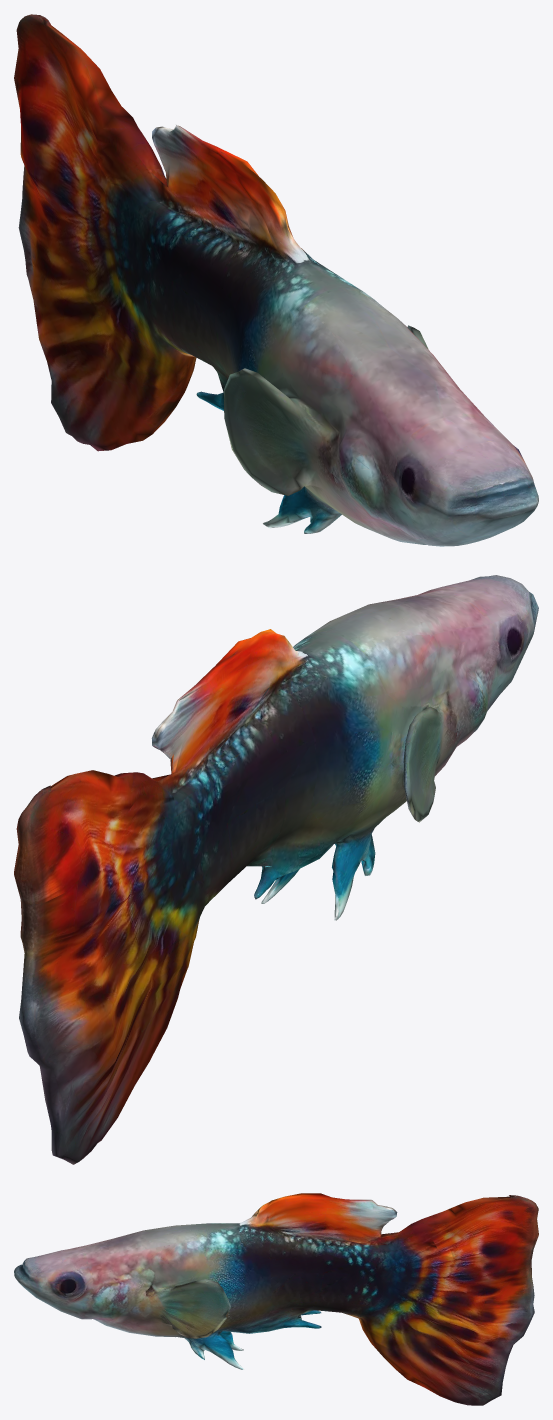
Rendered from strain-platinum_tuxedo_red_mosaic.glb.
The picture shows the model from 3 angles, top to bottom: view 1: azimuth 30°, elevation 25°; view 2: azimuth 150°, elevation 25°; view 3: azimuth 270°, elevation 25°; orthographic projection. The views are drawn at different scales.
Parts seen in each view (by area): view 1: Mesh_0.001; view 2: Mesh_0.001; view 3: Mesh_0.001.
Boxes of the visible parts, x1=… form: Mesh_0.001: x1=14, y1=14, x2=538, y2=546; Mesh_0.001: x1=14, y1=575, x2=538, y2=1164; Mesh_0.001: x1=14, y1=1193, x2=538, y2=1405.
Bounding box in the file's own units: 0.00747 × 0.015 × 0.0338.
Materials: 2 (2 with a texture image).
